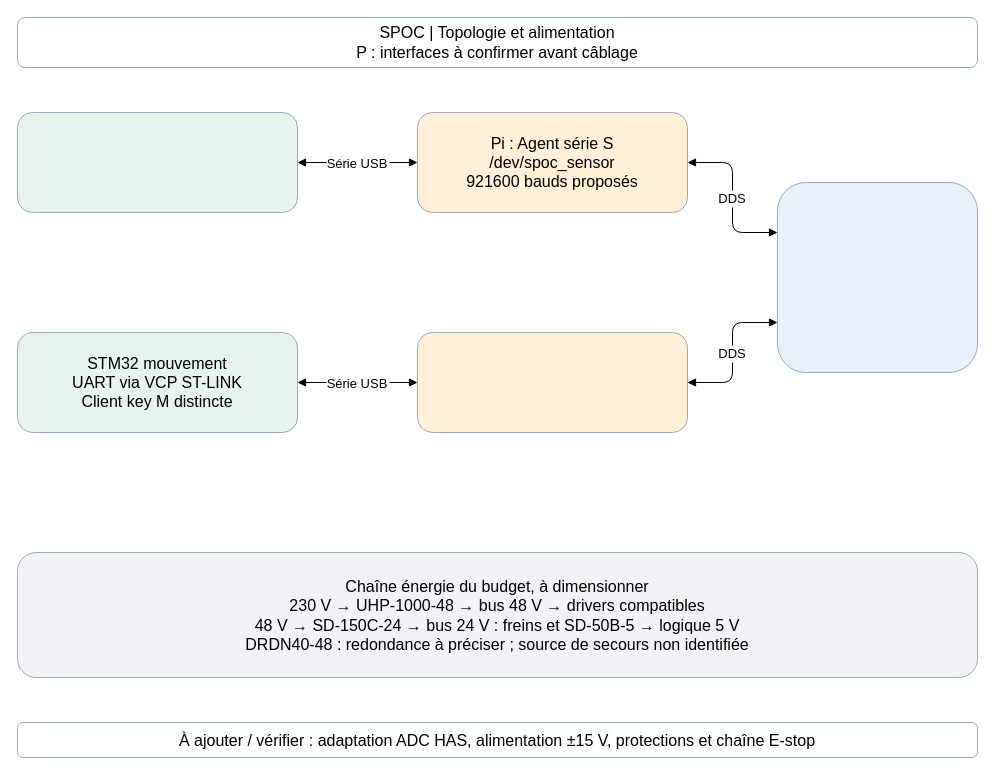
This 995x775 diagram has some shape labels left out. Each missing label, with the centre of its shape:
Pi : Agent série M /dev/spoc_motion 921600 bauds proposés: point 552,382
ROS 2 / DDS Applications Pi Ethernet vers IHM SQLite locale: point 877,277
STM32 capteurs UART via VCP ST-LINK Client key S distincte: point 157,162
